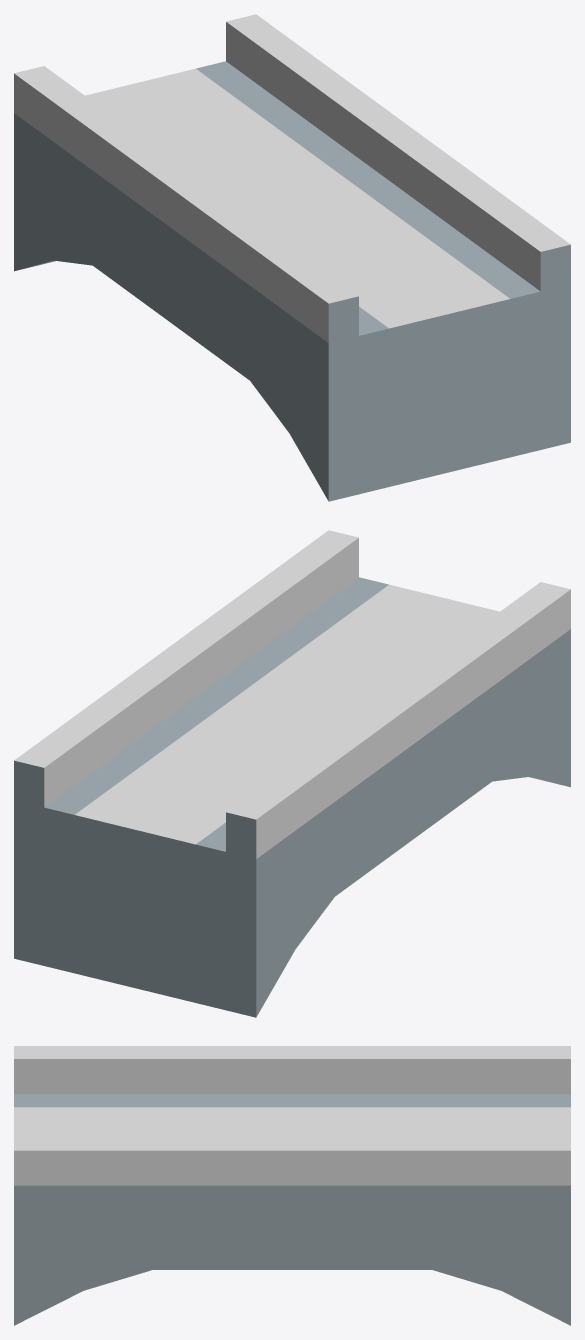
File: Bruecke.fbx
3 renders of one model, top to bottom at view 1: azimuth 30°, elevation 25°; view 2: azimuth 150°, elevation 25°; view 3: azimuth 270°, elevation 25°, orthographic. The views are drawn at different scales.
Visible parts, largest first — view 1: mesh_1872775531; view 2: mesh_1872775531; view 3: mesh_1872775531.
Boxes of the visible parts, bbox=[...] form: mesh_1872775531: bbox=[14, 14, 570, 501]; mesh_1872775531: bbox=[14, 530, 570, 1017]; mesh_1872775531: bbox=[14, 1046, 570, 1325].
Bounding box in the file's own units: 32 × 25 × 72.
